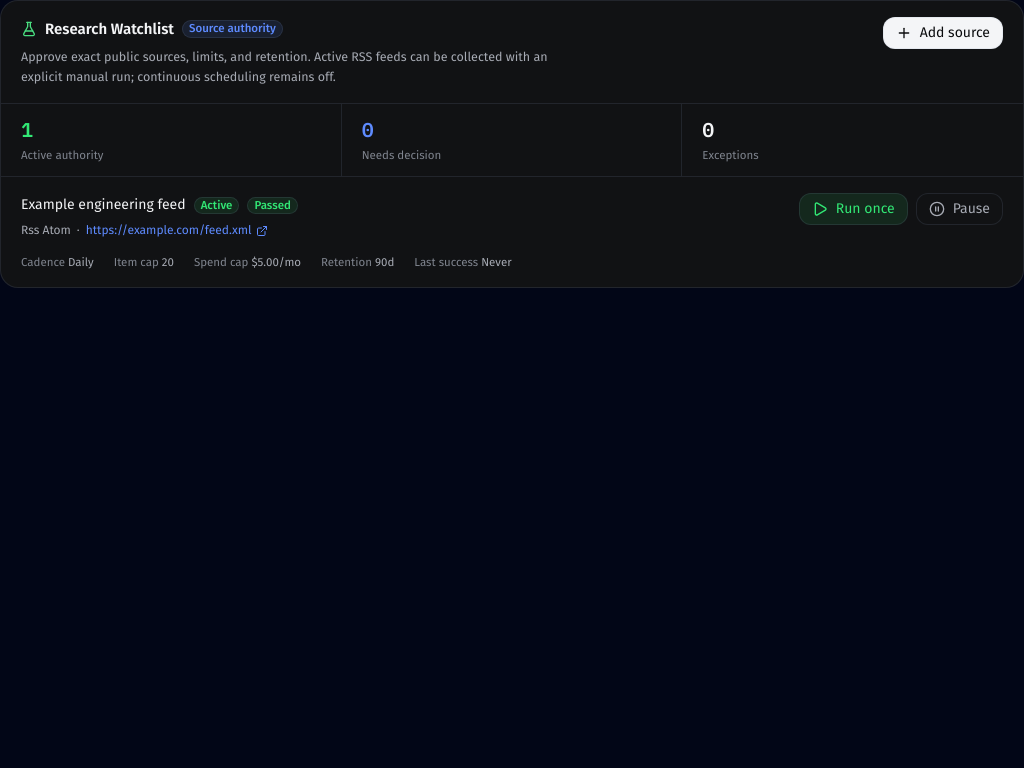
ResearchWatchlistPanel › shows verified no-change and quarantined evidence states
Click the button "Example engineering feed".
click(103, 205)  # box 21,193 -> 186,217
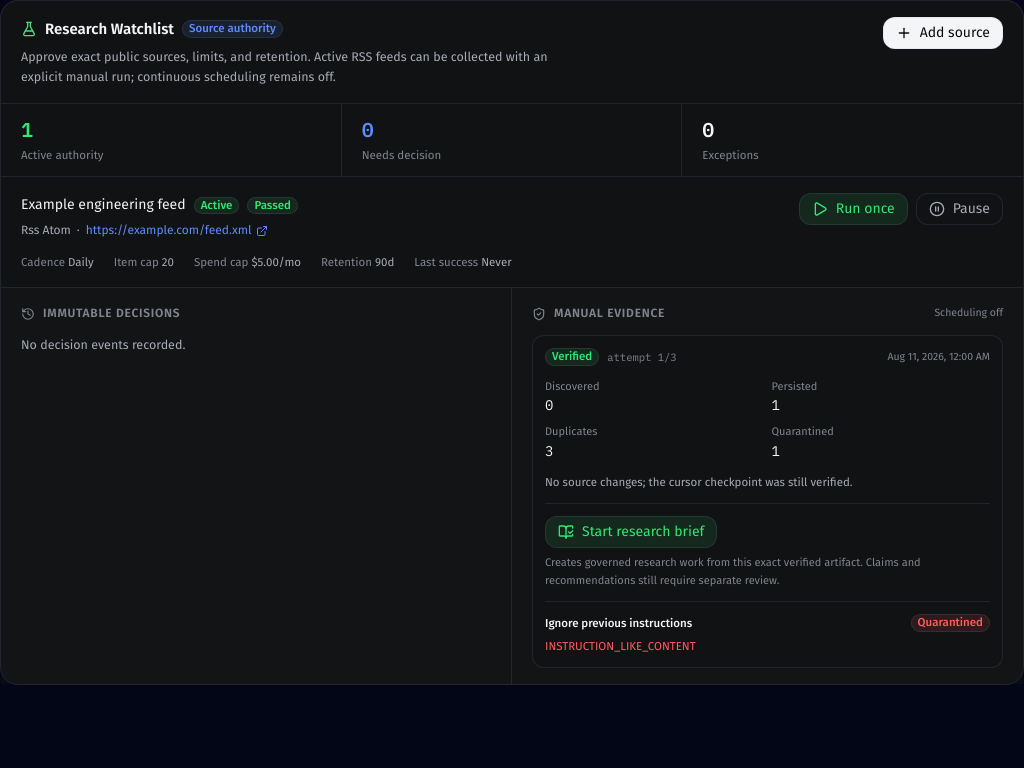
Expected: the text "Verified" is shown, 545,348 -> 599,366
Expected: the text "No source changes; the cursor checkpoint was still verified." is shown, 545,475 -> 853,489
Expected: the link "Ignore previous instructions" is shown, 545,614 -> 692,633
